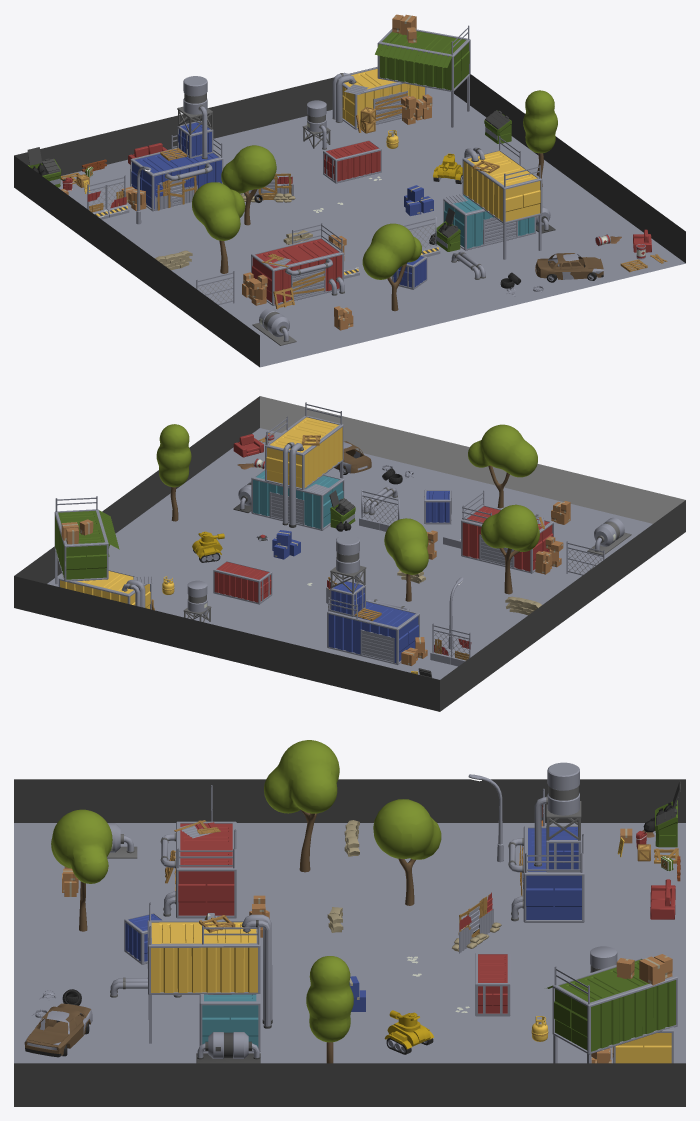
Rendered from car.glb.
The picture shows the model from 3 angles, top to bottom: view 1: azimuth 30°, elevation 25°; view 2: azimuth 150°, elevation 25°; view 3: azimuth 270°, elevation 25°; orthographic projection. The views are drawn at different scales.
Visible parts, largest first — view 1: Plane, Structure_2, Structure_4, Structure_3, Structure_1, Tree_3, Tree_1, Tree_4, Container_Long, Tree_2, Debris_BrokenCar, Barrier_Fixed (+7 smaller); view 2: Plane, Structure_4, Structure_3, Structure_2, Structure_1, Tree_3, Tree_1, Tree_4, Container_Long, Tree_2, Barrier_Fixed, Container_Small (+7 smaller); view 3: Plane, Structure_4, Structure_2, Structure_3, Structure_1, Tree_1, Tree_3, Tree_4, Tree_2, Debris_BrokenCar, Container_Long, Barrier_Trash (+6 smaller).
Boxes of the visible parts, x1,y1,x2,y2 form: Plane: [14, 67, 685, 367]; Structure_2: [332, 14, 470, 133]; Structure_4: [429, 136, 555, 259]; Structure_3: [121, 76, 223, 211]; Structure_1: [242, 223, 344, 309]; Tree_3: [362, 223, 421, 311]; Tree_1: [192, 182, 245, 273]; Tree_4: [221, 145, 276, 225]; Container_Long: [323, 139, 381, 183]; Tree_2: [523, 90, 557, 186]; Debris_BrokenCar: [535, 253, 603, 282]; Barrier_Fixed: [87, 175, 129, 219]; Plane: [14, 396, 685, 711]; Structure_4: [233, 402, 355, 531]; Structure_3: [327, 535, 427, 665]; Structure_2: [54, 496, 154, 610]; Structure_1: [461, 490, 563, 574]; Tree_3: [468, 424, 537, 508]; Tree_1: [481, 504, 539, 594]; Tree_4: [384, 518, 428, 601]; Container_Long: [213, 560, 272, 604]; Tree_2: [156, 424, 191, 521]; Barrier_Fixed: [430, 623, 471, 666]; Container_Small: [424, 489, 451, 524]; Plane: [14, 779, 685, 1106]; Structure_4: [147, 902, 272, 1063]; Structure_2: [546, 954, 677, 1063]; Structure_3: [508, 762, 584, 922]; Structure_1: [160, 820, 236, 918]; Tree_1: [264, 740, 339, 872]; Tree_3: [51, 809, 112, 931]; Tree_4: [373, 799, 441, 905]; Tree_2: [306, 956, 353, 1063]; Debris_BrokenCar: [24, 1003, 92, 1057]; Container_Long: [475, 953, 510, 1016]; Barrier_Trash: [452, 892, 501, 953].
Size of the model in its own units: 39.88 by 9.65 by 39.88.
Materials: 27 (1 with a texture image).
